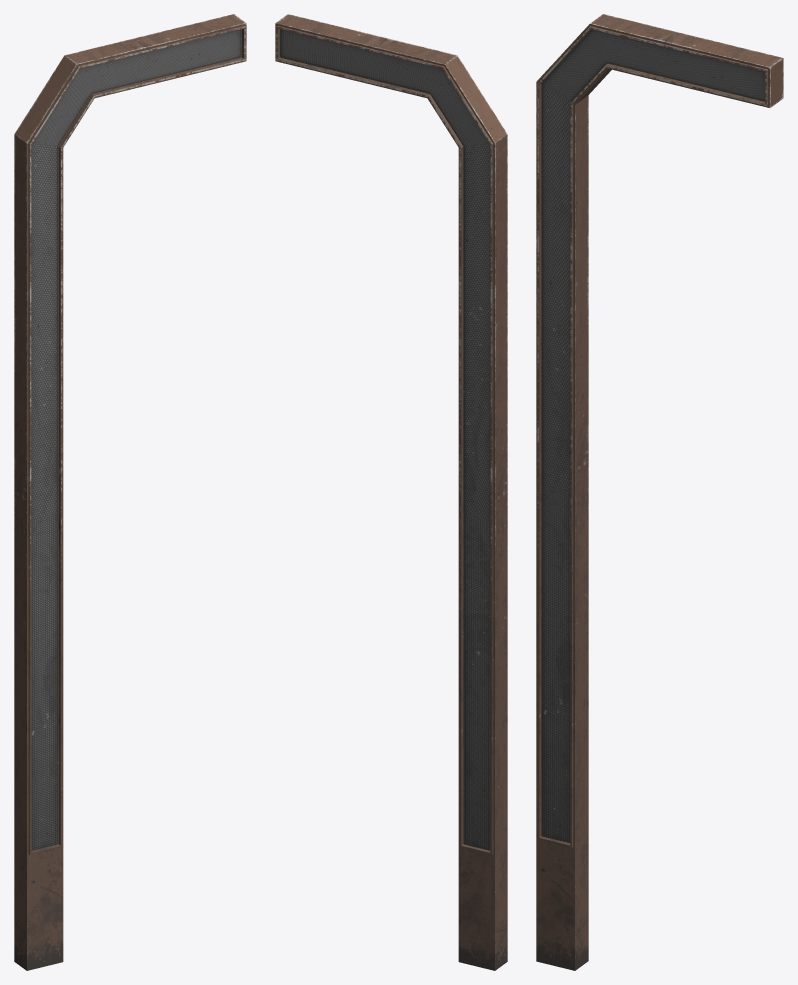
Rendered from light_vertical.fbx.
3 views of the same model, side by side, from view 1: azimuth 30°, elevation 25°; view 2: azimuth 150°, elevation 25°; view 3: azimuth 330°, elevation 25° (orthographic). The views are drawn at different scales.
Visible parts, largest first — view 1: light_vertical; view 2: light_vertical; view 3: light_vertical.
Part boxes in pixels (left/top/right/bottom): light_vertical: left=14, top=14, right=246, bottom=970; light_vertical: left=275, top=14, right=507, bottom=970; light_vertical: left=536, top=14, right=783, bottom=970.
Size of the model in its own units: 121 by 470 by 14.
1 material, 1 textured.
